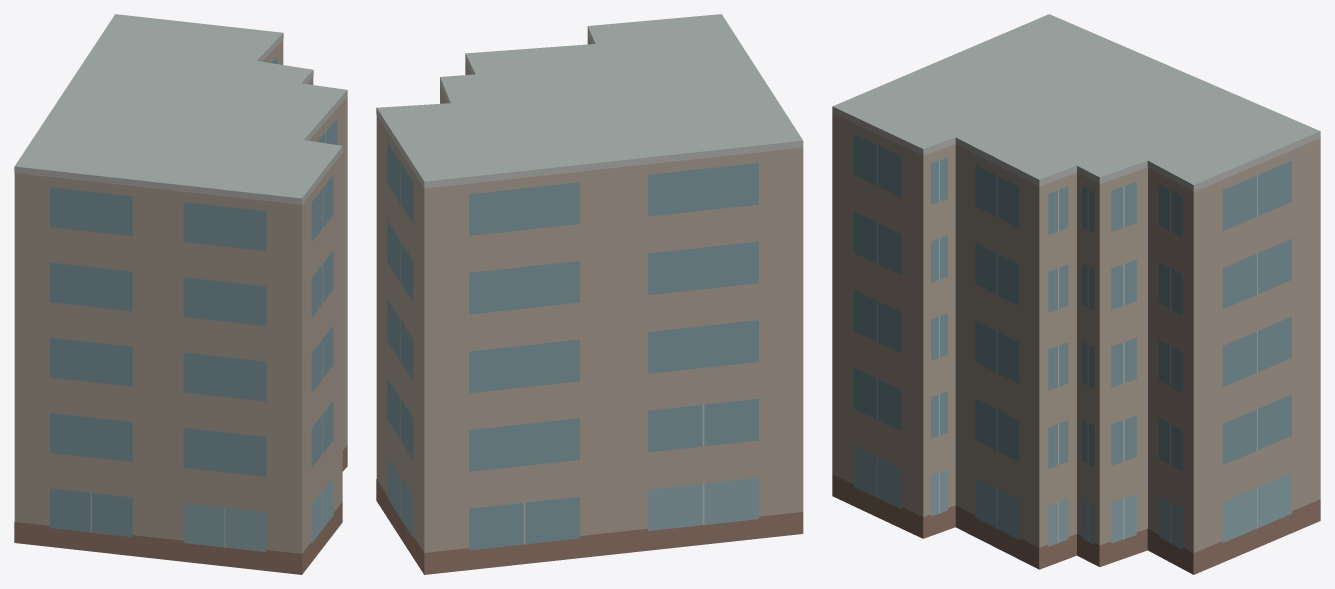
Rendered from survey-upis-32976087.glb.
3 renders of one model, left to right at view 1: azimuth 30°, elevation 25°; view 2: azimuth 150°, elevation 25°; view 3: azimuth 270°, elevation 25°, orthographic. The views are drawn at different scales.
Visible parts, largest first — view 1: survey-upis-32976087.tmp; view 2: survey-upis-32976087.tmp; view 3: survey-upis-32976087.tmp.
Boxes of the visible parts, box(x1,y1,x2,y2) form: survey-upis-32976087.tmp: box(14, 14, 347, 574); survey-upis-32976087.tmp: box(376, 14, 803, 574); survey-upis-32976087.tmp: box(832, 14, 1320, 574).
Size of the model in its own units: 13.19 by 14 by 15.9.
